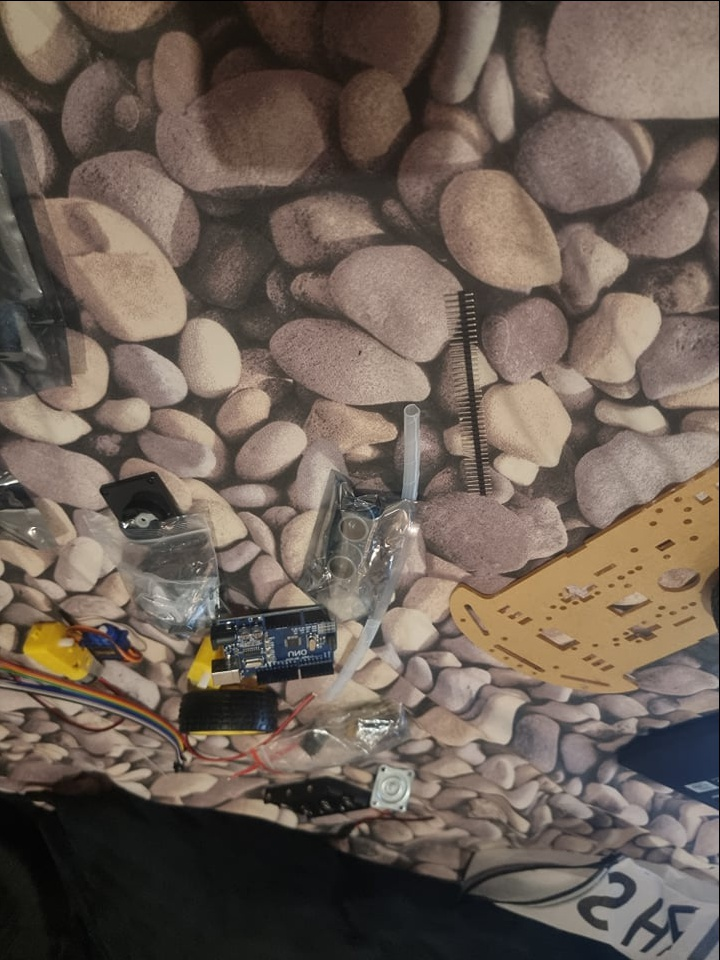BATTERY BOX: (258, 772, 371, 821)
SENSOR: (320, 496, 385, 583)
UNO R3: (205, 602, 339, 688)
